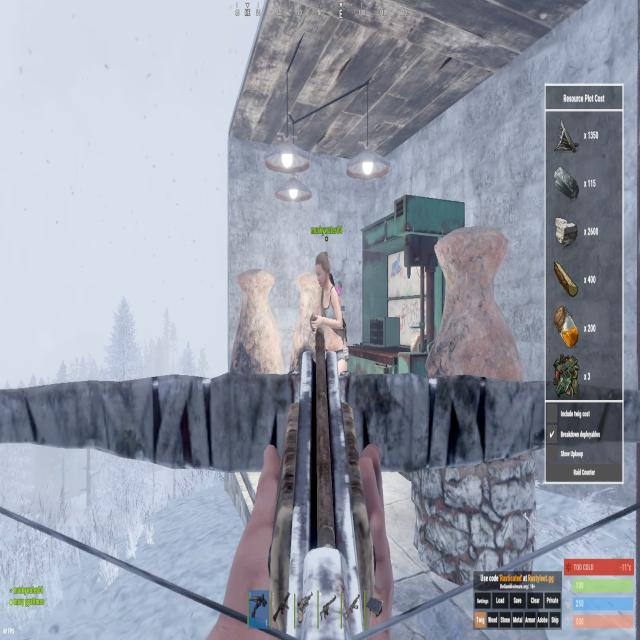Player: (314, 250, 349, 380)
